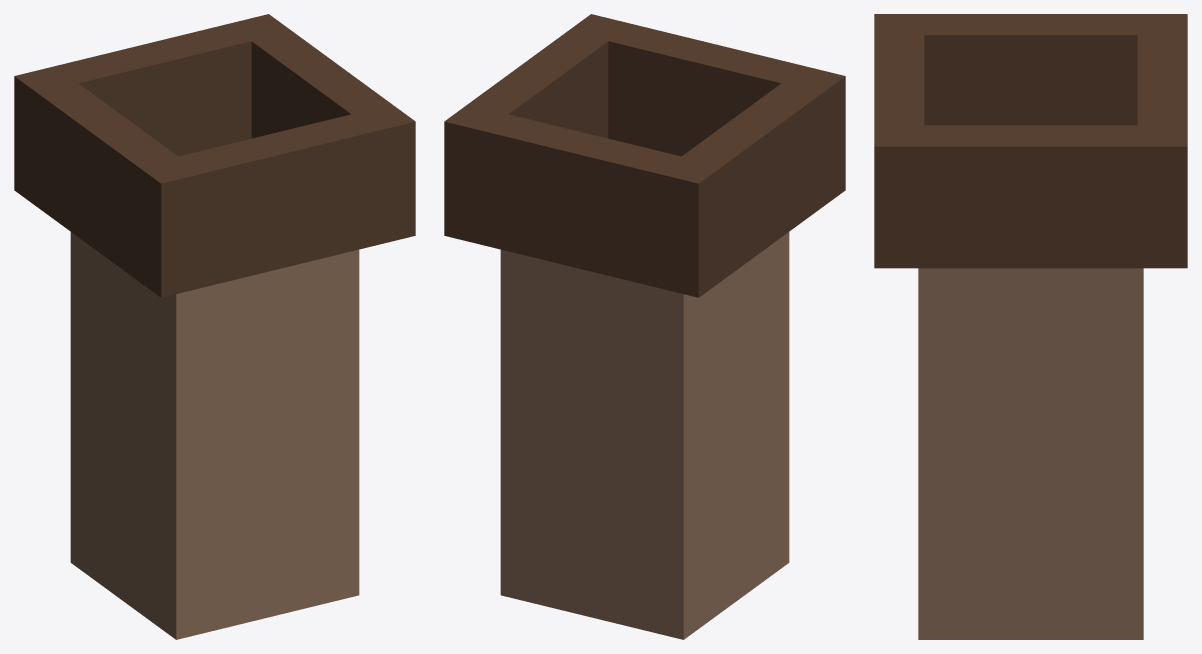
The model's file is Chimney1_C2.fbx.
The picture shows the model from 3 angles, left to right: view 1: azimuth 30°, elevation 25°; view 2: azimuth 150°, elevation 25°; view 3: azimuth 270°, elevation 25°; orthographic projection. The views are drawn at different scales.
Visible parts, largest first — view 1: Chimney1_C2; view 2: Chimney1_C2; view 3: Chimney1_C2.
Part boxes in pixels (x1,y1,x2,y2): Chimney1_C2: (14,14,415,639); Chimney1_C2: (444,14,845,639); Chimney1_C2: (874,14,1187,639).
Size of the model in its own units: 55.59 by 100 by 55.59.
